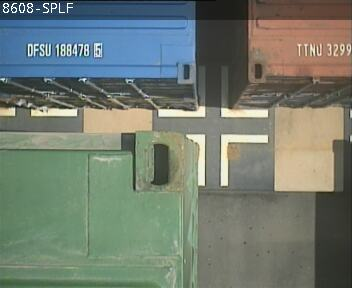groundmarker_1: (158, 67, 269, 117), (183, 134, 267, 185)
